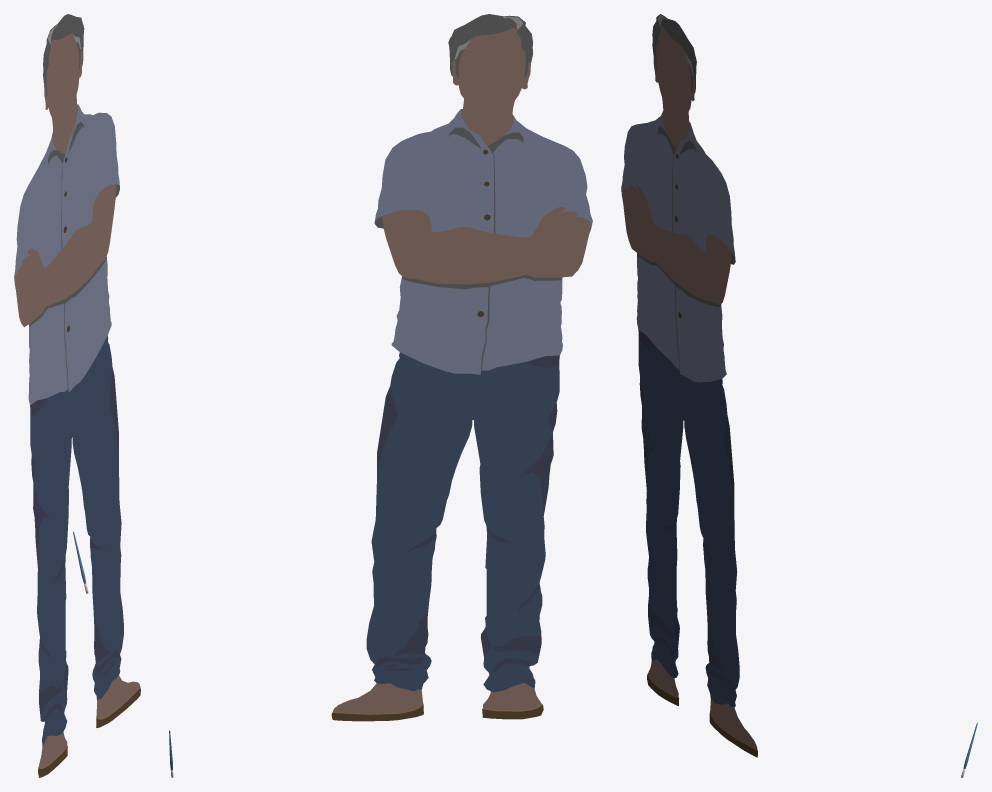
The model's file is paintbrush_grey.fbx.
3 views of the same model, side by side, from view 1: azimuth 30°, elevation 25°; view 2: azimuth 150°, elevation 25°; view 3: azimuth 270°, elevation 25° (orthographic). The views are drawn at different scales.
Visible parts, largest first — view 1: Niraj1; view 2: Niraj1; view 3: Niraj1.
Part boxes in pixels (box(x1,y1,x2,y2)): Niraj1: box(14, 14, 140, 777); Niraj1: box(331, 14, 592, 721); Niraj1: box(621, 14, 757, 757).
Size of the model in its own units: 25.7 by 70.5 by 33.27.
